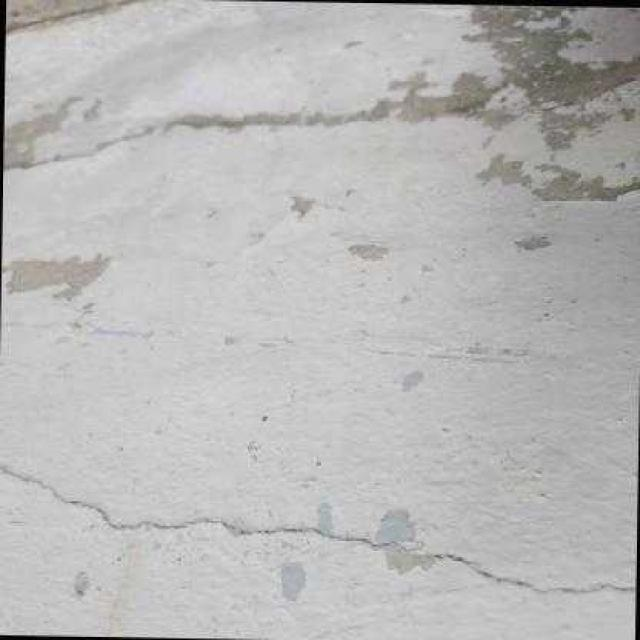D00: (0, 462, 635, 593)
